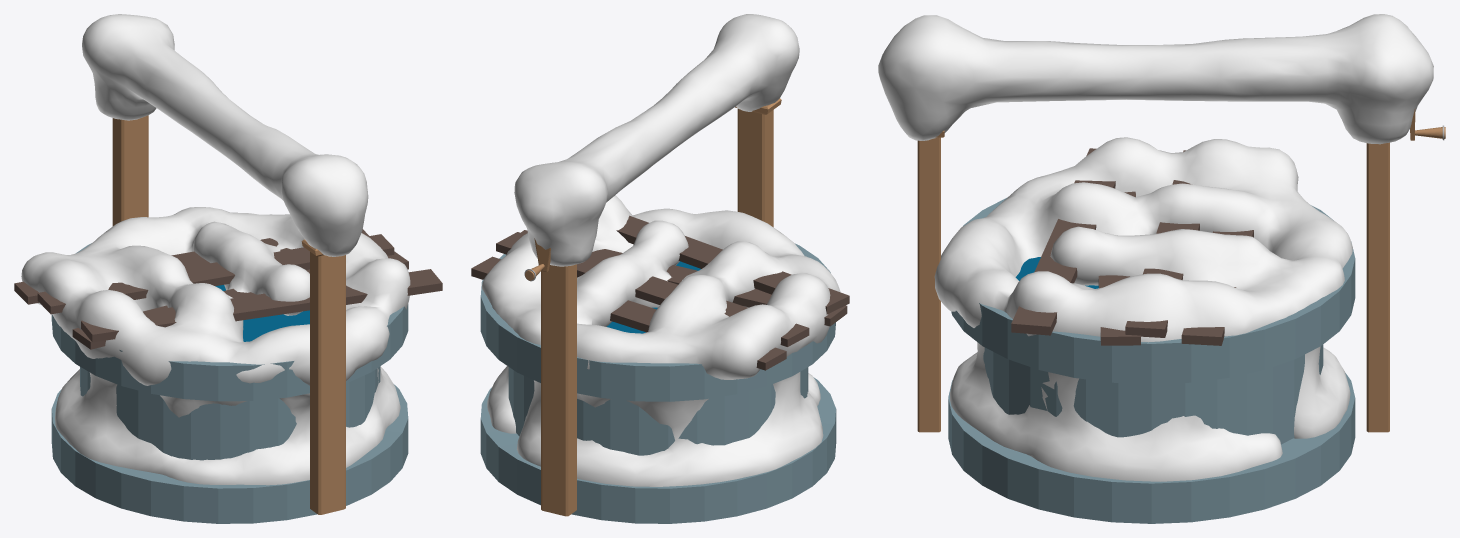
Rendered from Broken Well SNOW.fbx.
3 views of the same model, side by side, from view 1: azimuth 30°, elevation 25°; view 2: azimuth 150°, elevation 25°; view 3: azimuth 270°, elevation 25° (orthographic). The views are drawn at different scales.
Parts seen in each view (by area): view 1: SnowBall.001, Cylinder.003; view 2: SnowBall.001, Cylinder.003; view 3: SnowBall.001, Cylinder.003.
Boxes of the visible parts, x1=… form: SnowBall.001: x1=21, y1=14, x2=410, y2=485; Cylinder.003: x1=14, y1=115, x2=442, y2=523; SnowBall.001: x1=482, y1=14, x2=840, y2=486; Cylinder.003: x1=471, y1=98, x2=849, y2=523; SnowBall.001: x1=878, y1=14, x2=1433, y2=481; Cylinder.003: x1=917, y1=108, x2=1445, y2=523.
Bounding box in the file's own units: 71.1 × 76.21 × 95.11.
